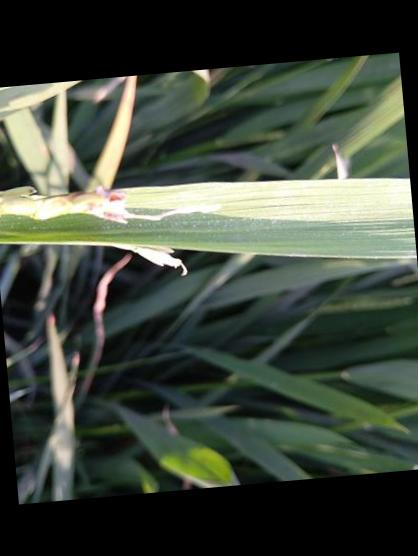Panicle Blight: (66, 183, 132, 223)
